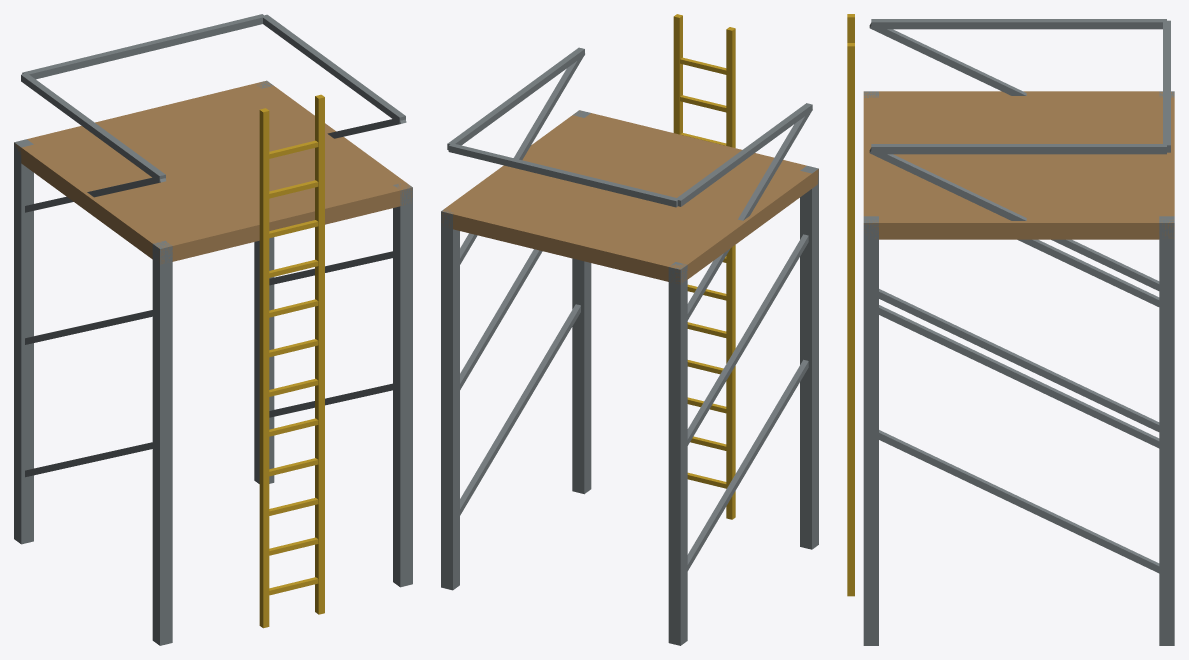
The model's file is scaffold_tower.glb.
3 renders of one model, left to right at view 1: azimuth 30°, elevation 25°; view 2: azimuth 150°, elevation 25°; view 3: azimuth 270°, elevation 25°, orthographic. The views are drawn at different scales.
Parts seen in each view (by area): view 1: scaffold_tower; view 2: scaffold_tower; view 3: scaffold_tower.
Boxes of the visible parts, bbox=[...] form: scaffold_tower: bbox=[14, 14, 412, 645]; scaffold_tower: bbox=[441, 14, 818, 645]; scaffold_tower: bbox=[847, 14, 1174, 645].
Bounding box in the file's own units: 2 × 3.9 × 2.11.
